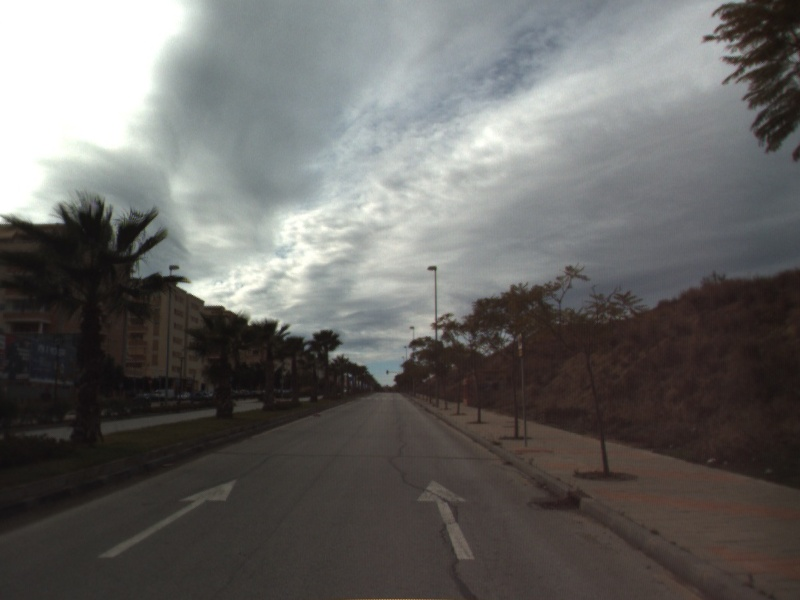STRAIGHT: (96, 477, 240, 561), (414, 477, 478, 562)
